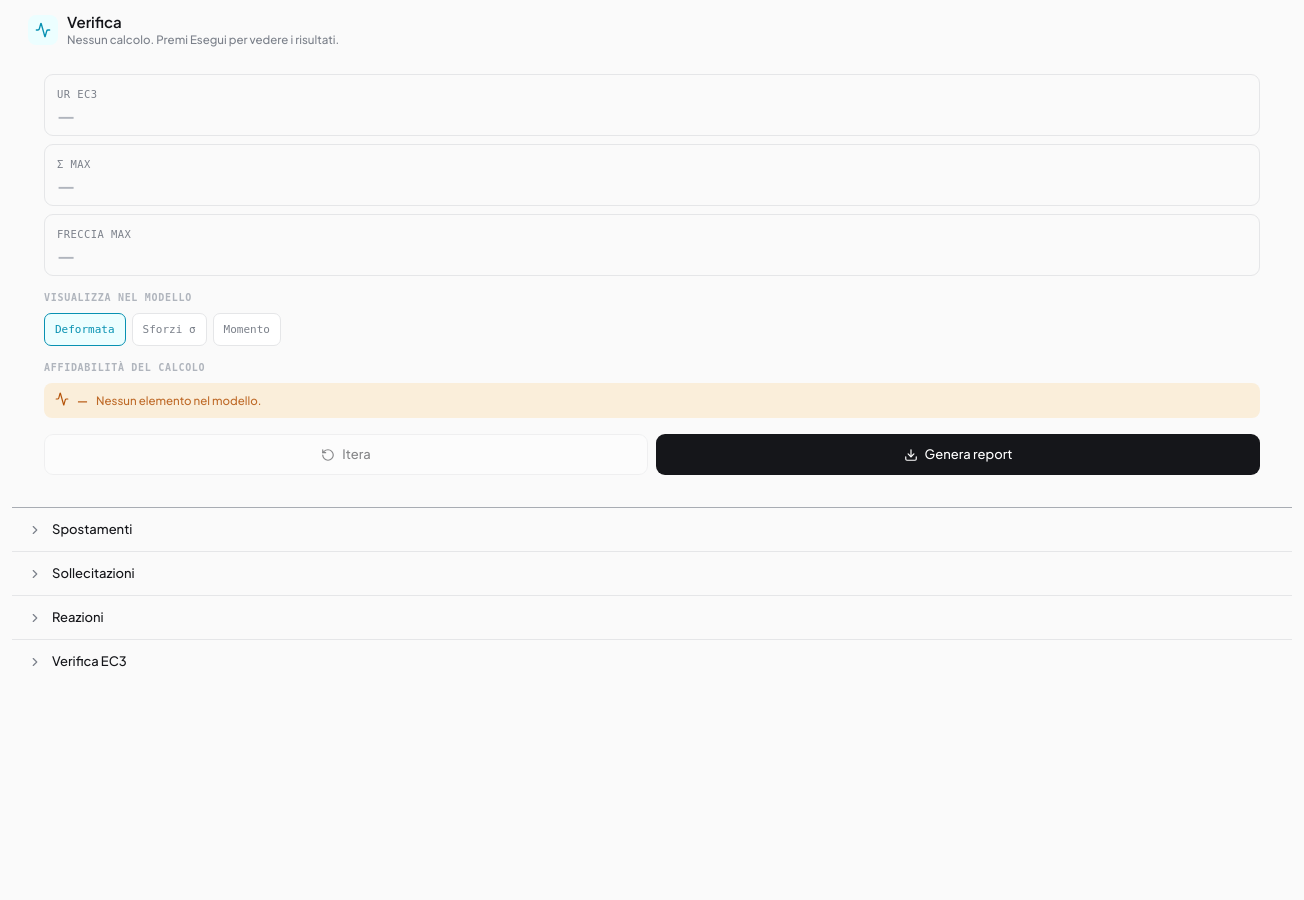
Scenario: ResultsTabsPanel · v3.4 Fetta E2.5c (accordion verticale) › aria-expanded riflette stato open/closed sulla header button
What coordinates should you click on to do the following:
click the button with test id "results-section-displacements-head"
I would click on:
 (92, 529)
Its box is [12,508,1292,551].
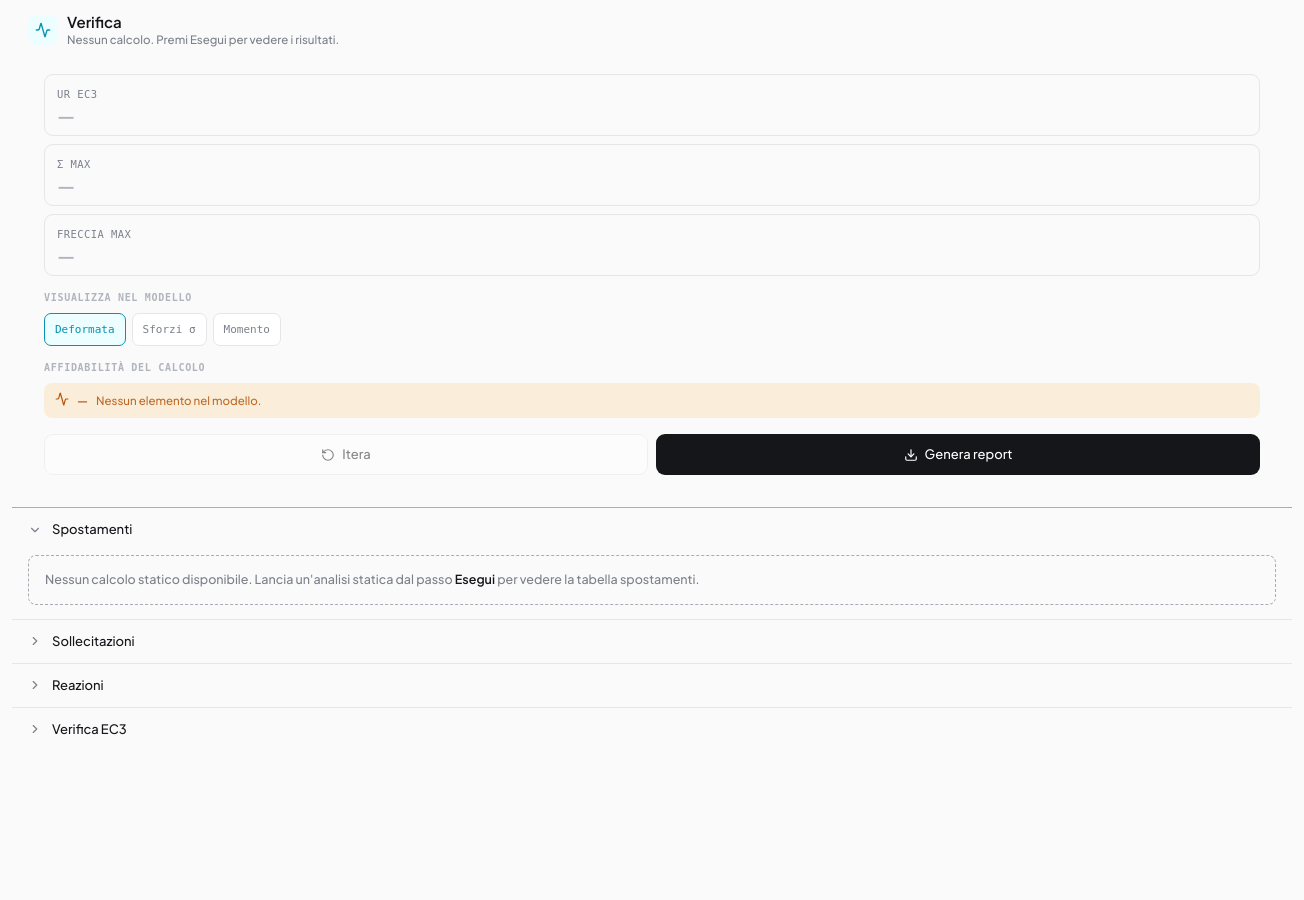
Now the button with test id "results-section-displacements-head" is expanded
What coordinates should you click on to do the following:
click the button with test id "results-section-displacements-head"
I would click on:
 (92, 529)
Its box is [12,508,1292,551].
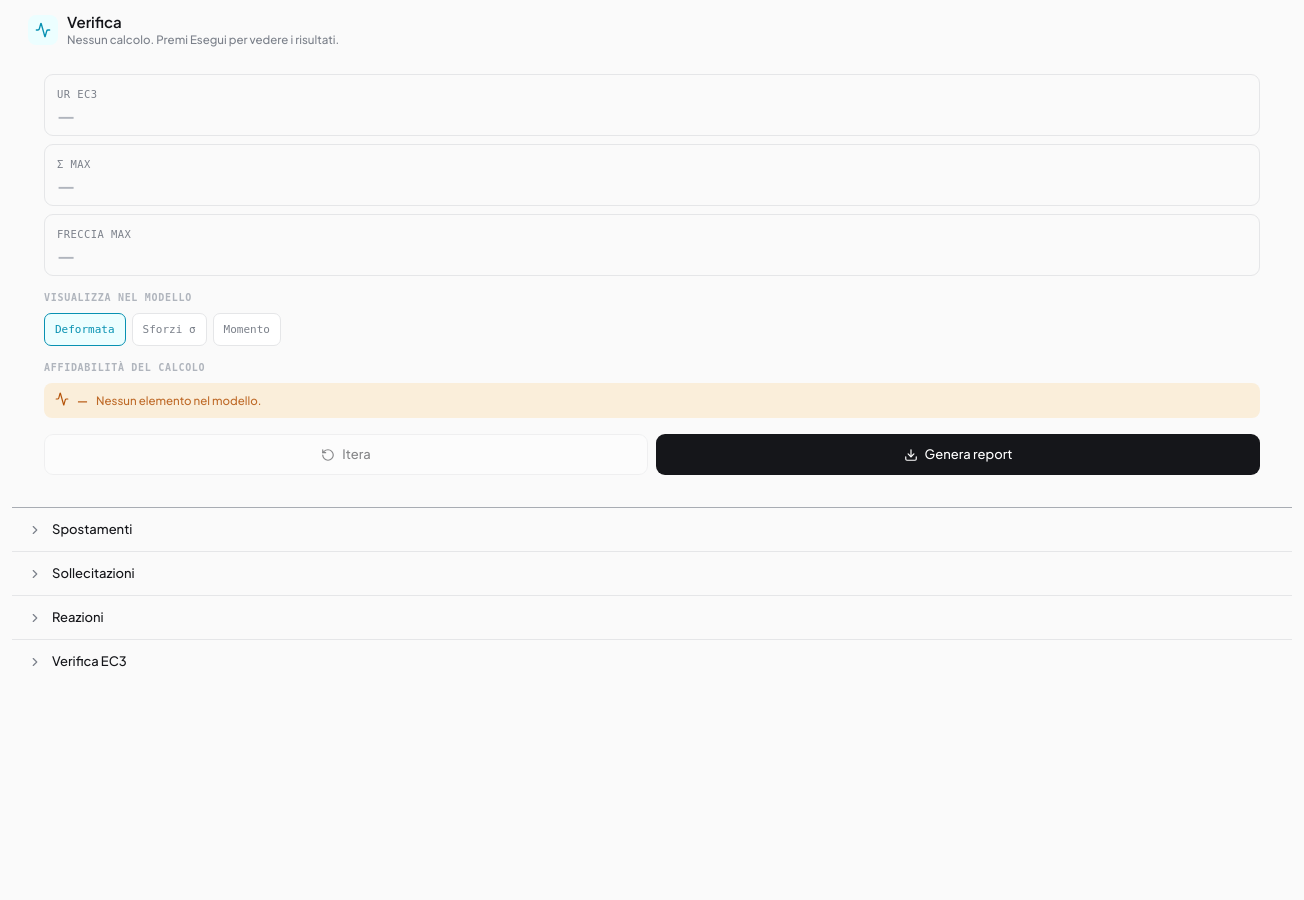
Now the button with test id "results-section-displacements-head" is collapsed, box [12,508,1292,551]
